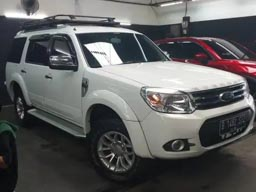plat: (221, 111, 248, 137)
